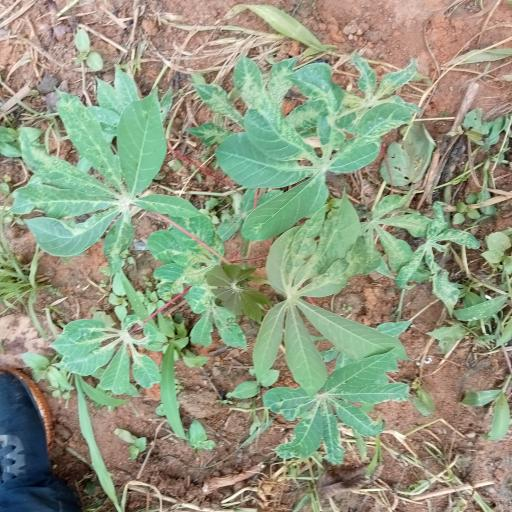Cassava_Mosaic: (205, 66, 404, 206), (13, 96, 182, 260), (258, 235, 390, 370), (264, 368, 414, 464)
